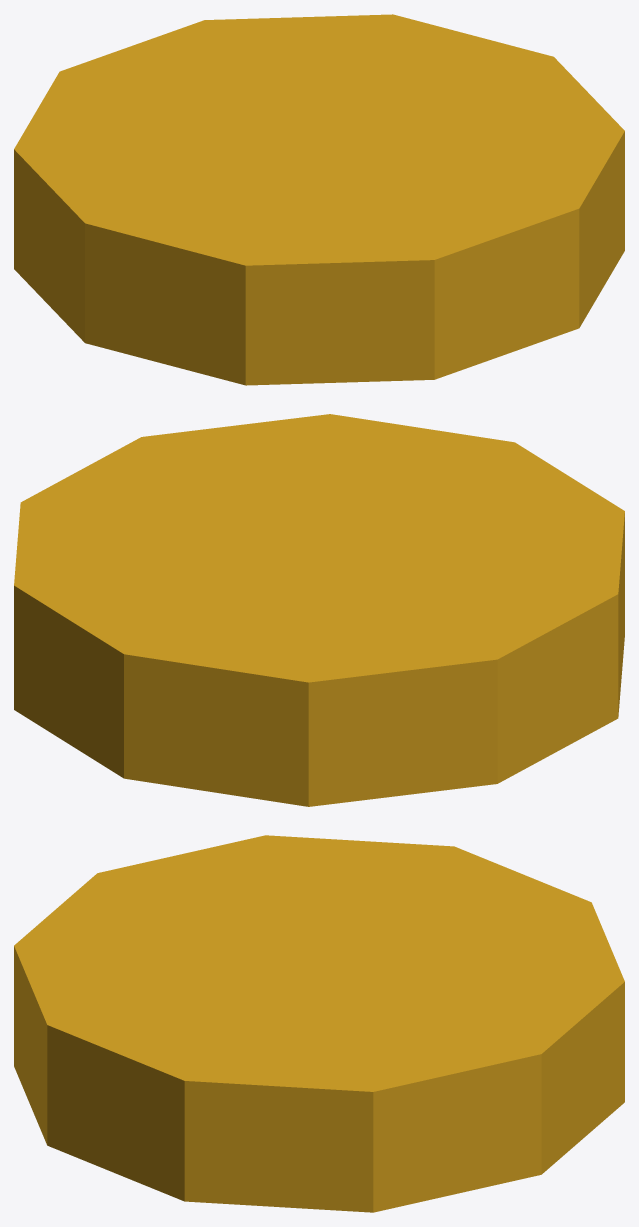
The model's file is Prop_Treasure_Gold_Coin_01.FBX.
3 views of the same model, one above another, from view 1: azimuth 30°, elevation 25°; view 2: azimuth 150°, elevation 25°; view 3: azimuth 270°, elevation 25° (orthographic). The views are drawn at different scales.
Visible parts, largest first — view 1: Prop_Treasure_Gold_Coin_01; view 2: Prop_Treasure_Gold_Coin_01; view 3: Prop_Treasure_Gold_Coin_01.
Boxes of the visible parts, x1,y1,x2,y2 form: Prop_Treasure_Gold_Coin_01: [14, 14, 624, 385]; Prop_Treasure_Gold_Coin_01: [14, 414, 624, 806]; Prop_Treasure_Gold_Coin_01: [14, 835, 624, 1212].
Bounding box in the file's own units: 89.3 × 19.58 × 89.83.
